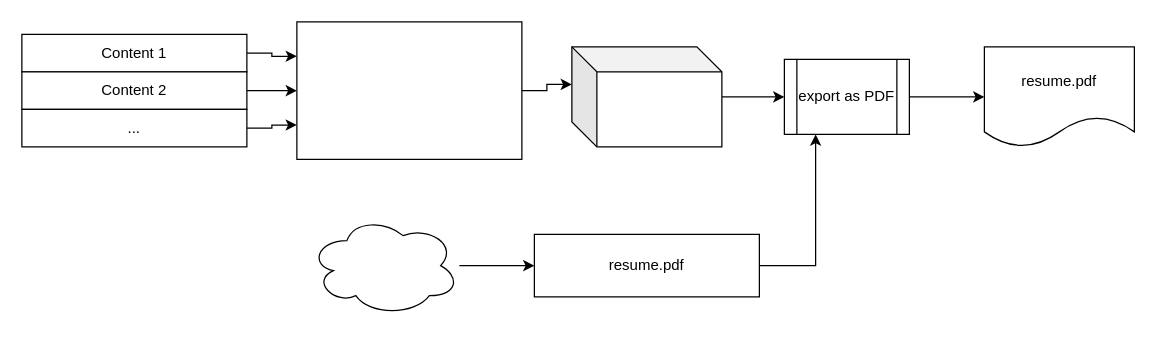
The diagram is 1156 pixels wide and 338 high, and some of its shapes have lost their labels. The shapes that lost their labels are listed below. From the top down, each one's box as (x1, y1, x2, y2) in pixels, then its label:
(296, 21, 522, 159): html.index
(571, 46, 722, 147): resume landing_page
(308, 214, 459, 316): overleaf
